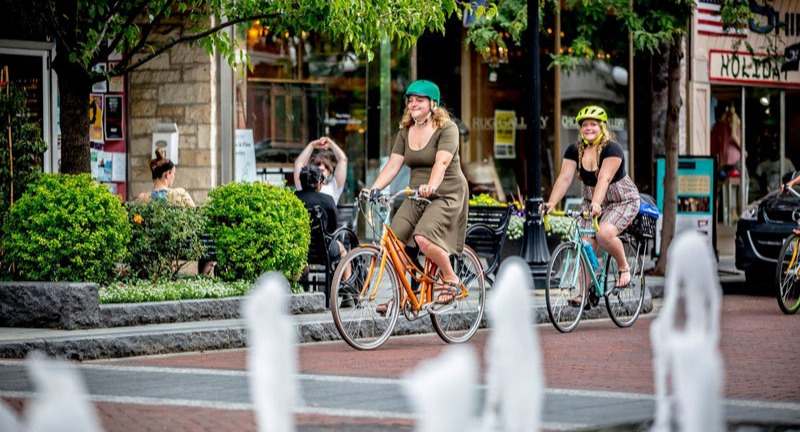with_helmet: (393, 80, 443, 100), (573, 105, 608, 119)
